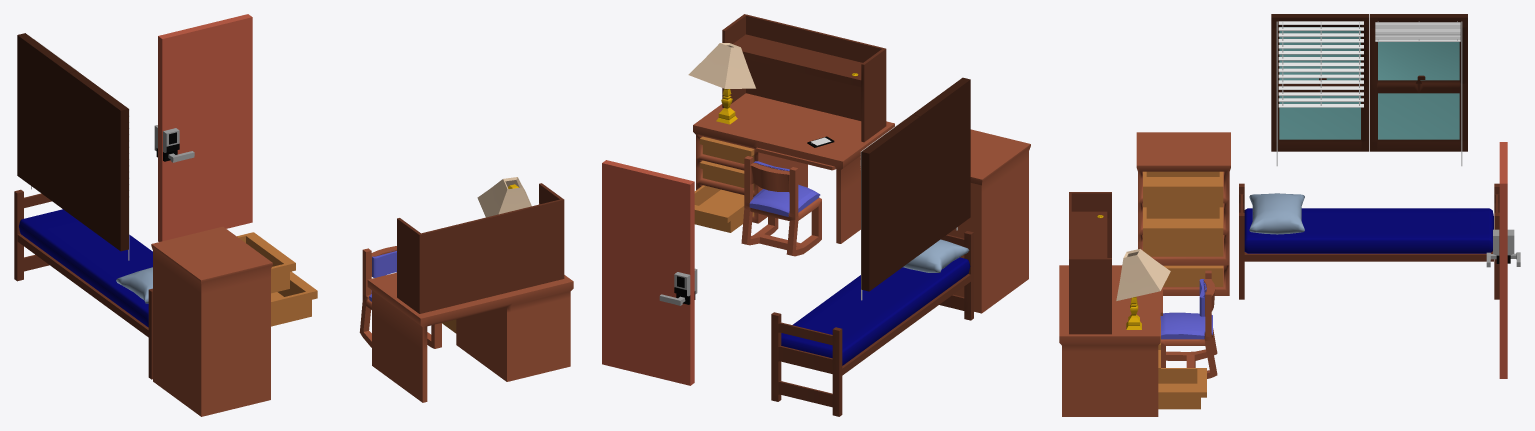
File: room_v01.fbx
3 views of the same model, side by side, from view 1: azimuth 30°, elevation 25°; view 2: azimuth 150°, elevation 25°; view 3: azimuth 270°, elevation 25° (orthographic). The views are drawn at different scales.
Visible parts, largest first — view 1: dresser_skeleton, frame, desk_skeleton, shelf, r_window, l_window, mattress, drawer_B, bot_frame, lamp_head, chair_skeleton, head_stand (+4 smaller); view 2: frame, shelf, desk_skeleton, dresser_skeleton, l_window, mattress, r_window, chair_skeleton, head_stand, lamp_head, drawer_C, bot_frame (+7 smaller); view 3: l_window, desk_skeleton, mattress, r_window, shelf, dresser_skeleton, drawer_B, drawer_A, drawer_C (×2), bot_frame, frame, pillow (+9 smaller).
Boxes of the visible parts, x1,y1,x2,y2 form: dresser_skeleton: [151, 226, 272, 416]; frame: [158, 14, 252, 241]; desk_skeleton: [367, 272, 573, 402]; shelf: [397, 183, 564, 313]; r_window: [69, 71, 128, 251]; l_window: [17, 33, 76, 213]; mattress: [19, 209, 152, 327]; drawer_B: [271, 271, 317, 326]; bot_frame: [17, 233, 149, 337]; lamp_head: [477, 177, 531, 217]; chair_skeleton: [359, 246, 441, 348]; head_stand: [14, 189, 51, 281]; frame: [602, 160, 694, 385]; shelf: [722, 14, 886, 142]; desk_skeleton: [693, 93, 894, 243]; dresser_skeleton: [947, 129, 1030, 313]; l_window: [861, 115, 919, 291]; mattress: [781, 257, 970, 365]; r_window: [912, 77, 970, 253]; chair_skeleton: [741, 156, 821, 256]; head_stand: [771, 312, 842, 416]; lamp_head: [688, 43, 755, 88]; drawer_C: [694, 185, 754, 232]; bot_frame: [842, 274, 971, 375]; l_window: [1370, 14, 1467, 151]; desk_skeleton: [1059, 265, 1162, 416]; mattress: [1244, 208, 1493, 253]; r_window: [1271, 14, 1369, 151]; shelf: [1069, 192, 1111, 334]; dresser_skeleton: [1136, 132, 1230, 295]; drawer_B: [1143, 207, 1223, 248]; drawer_A: [1143, 171, 1223, 207]; drawer_C (×2): [1143, 249, 1223, 409]; bot_frame: [1243, 251, 1493, 261]; frame: [1499, 142, 1507, 378]; pillow: [1249, 193, 1304, 234].
Bounding box in the file's own units: 54.1 × 38.95 × 65.56.
